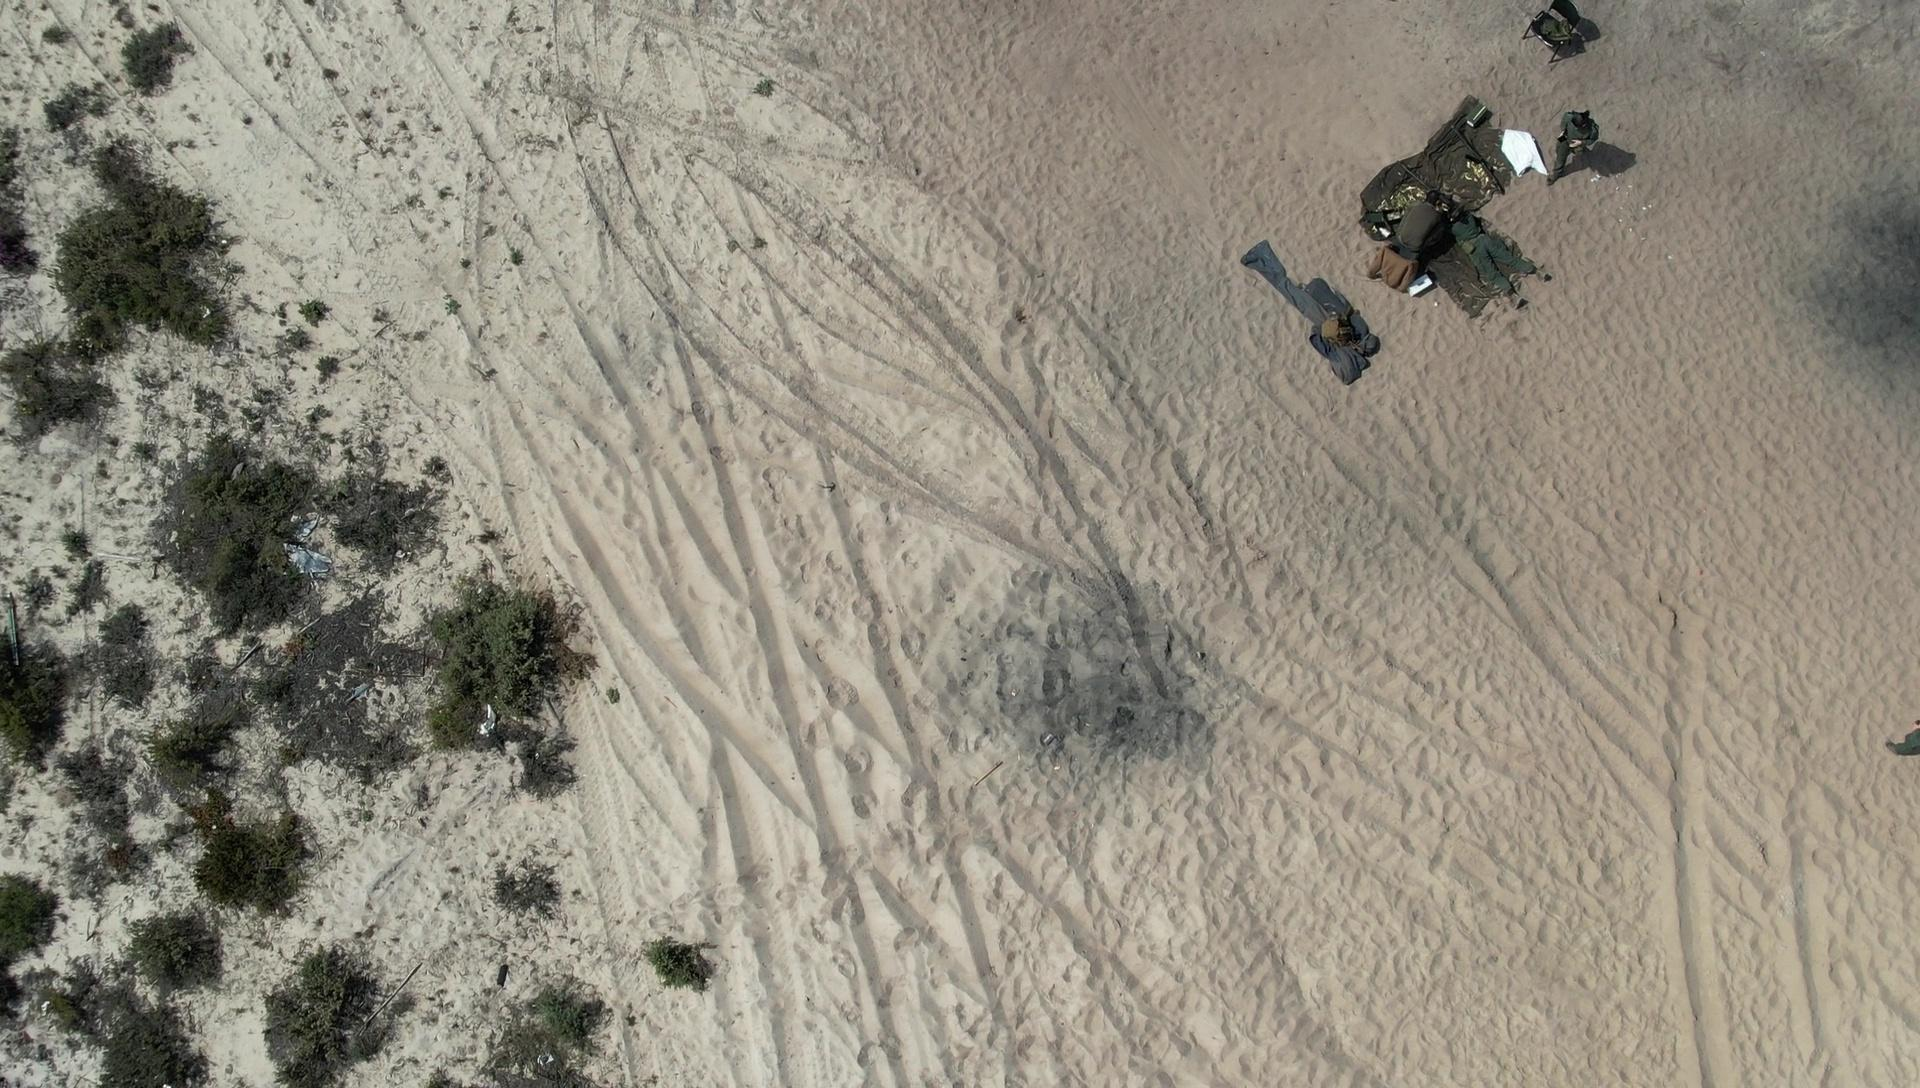Soldier: (1432, 175, 1553, 326), (1548, 90, 1625, 195), (1400, 175, 1461, 284)
